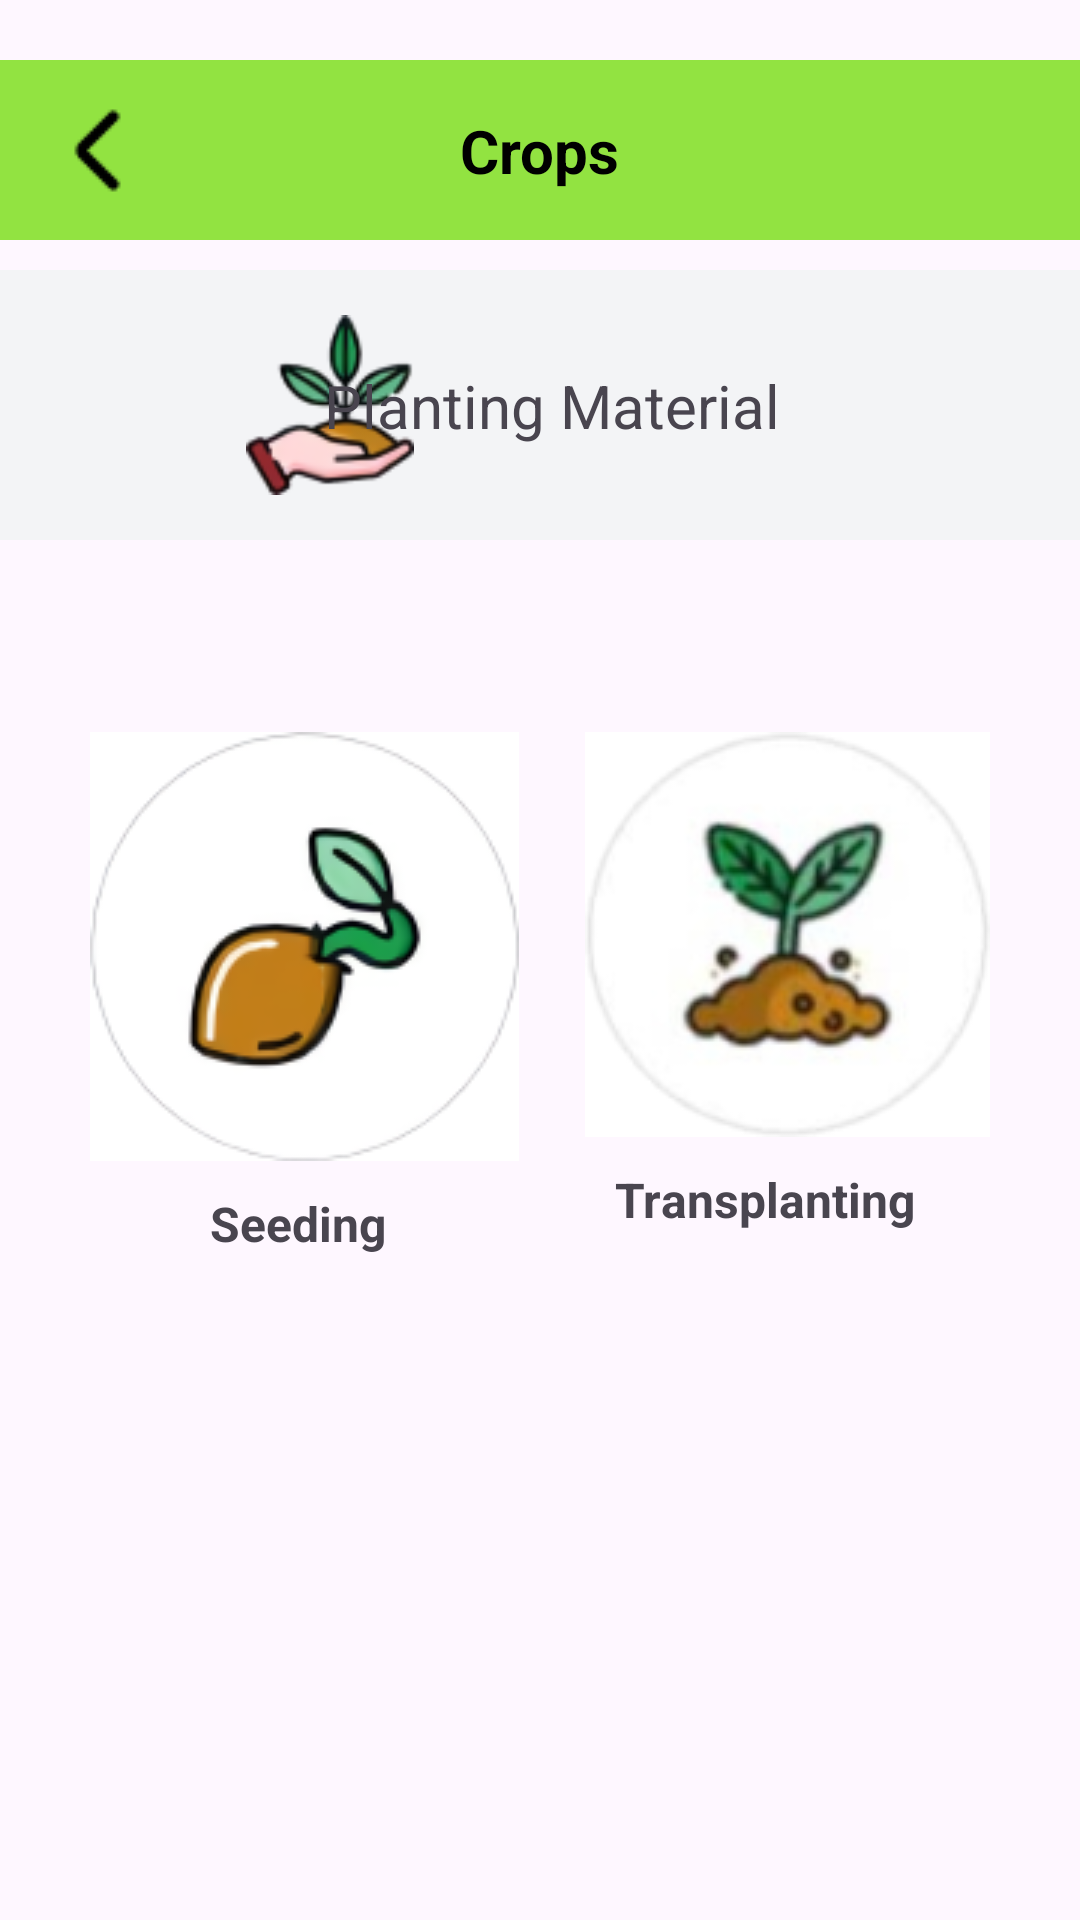

Screen size 1080 × 1920. Icon name, then its box in pixels as (x1, y1, x2, y2):
back arrow: (74, 109, 121, 192)
